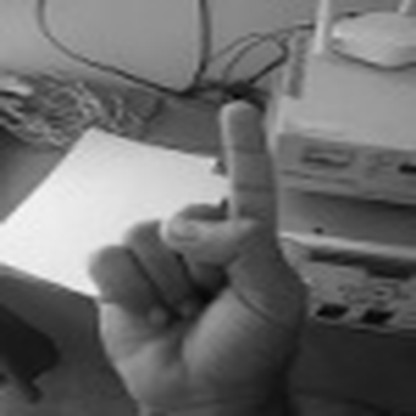d: (82, 94, 305, 412)
